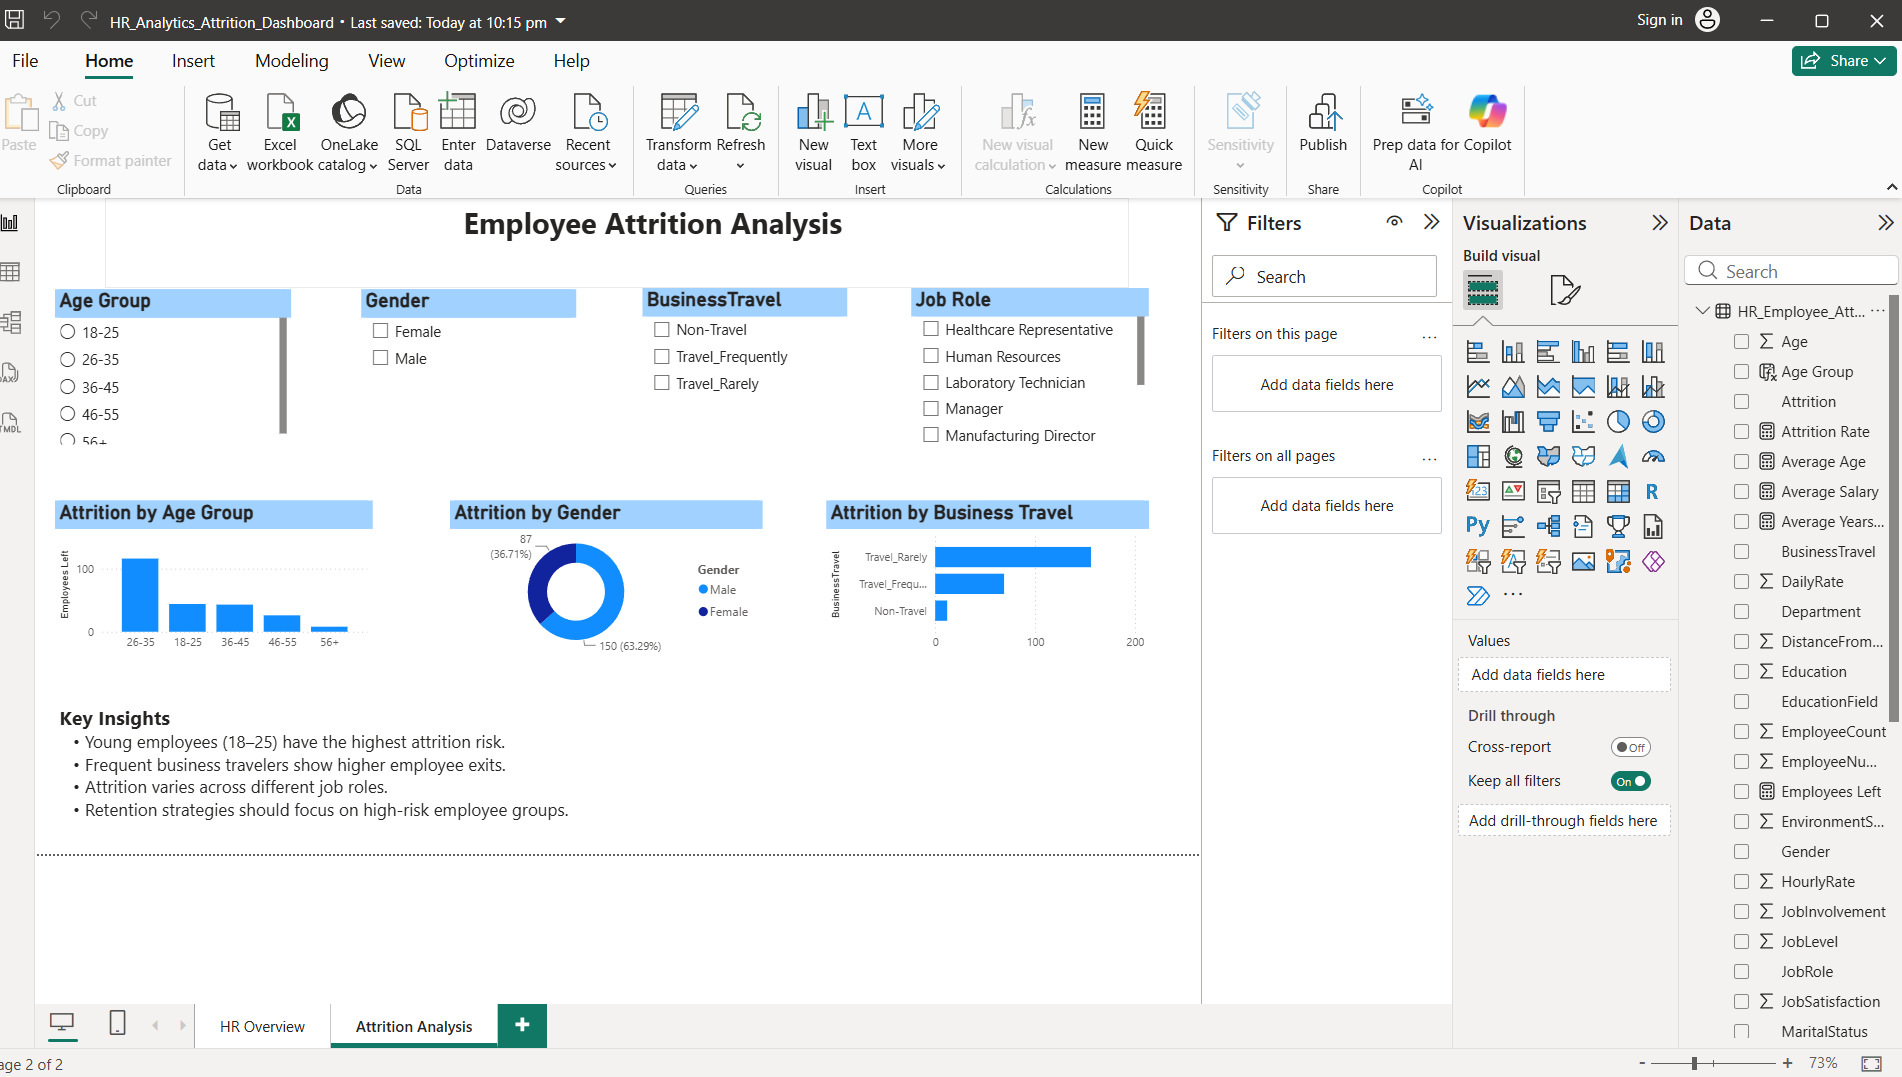

Layout of this report page (visuals, bound fields, positions):
{"tool":"powerbi","page":{"name":"Attrition Analysis","canvas":[1280,720],"ordinal":1},"visuals":[{"type":"donutChart","title":"Attrition by Gender","fields":{"Category":["HR_Employee_Attrition.Gender"],"Y":["HR_Employee_Attrition.Employees Left"]},"box":[455.6,332.1,343.1,174.3],"z":0},{"type":"clusteredColumnChart","title":"Attrition by Age Group","fields":{"Category":["HR_Employee_Attrition.Age Group"],"Y":["HR_Employee_Attrition.Employees Left"]},"box":[22,332.1,348.5,174.3],"z":1000},{"type":"clusteredBarChart","title":"Attrition by Business Travel","fields":{"Category":["HR_Employee_Attrition.BusinessTravel"],"Y":["HR_Employee_Attrition.Employees Left"]},"box":[868.6,332.1,354,174.3],"z":2000},{"type":"textbox","box":[76.8,0,1123.8,98.8],"z":3001},{"type":"listSlicer","fields":{"Values":["HR_Employee_Attrition.Age Group"]},"box":[22,100.2,259.3,175.6],"z":3002},{"type":"slicer","title":"Gender","fields":{"Values":["HR_Employee_Attrition.Gender"]},"box":[358.1,100.2,236,175.6],"z":3003},{"type":"slicer","title":"BusinessTravel","fields":{"Values":["HR_Employee_Attrition.BusinessTravel"]},"box":[666.9,98.8,225,175.6],"z":3004},{"type":"slicer","title":"Job Role","fields":{"Values":["HR_Employee_Attrition.JobRole"]},"box":[961.9,98.8,260.7,177],"z":3005},{"type":"textbox","box":[22,550.3,978.4,159.2],"z":3006}]}

Visuals, with their boxes on the page's 1280x720 design canvas (x1, y1, x2, y2). These are canvas units, not pixel positions in the 1902x1077 screenshot, which may show the page scaled, cropped or inside an application window:
"Attrition by Gender" donutChart: region(456, 332, 799, 506)
"Attrition by Age Group" clusteredColumnChart: region(22, 332, 370, 506)
"Attrition by Business Travel" clusteredBarChart: region(869, 332, 1223, 506)
textbox: region(77, 0, 1201, 99)
listSlicer - HR_Employee_Attrition.Age Group: region(22, 100, 281, 276)
"Gender" slicer: region(358, 100, 594, 276)
"BusinessTravel" slicer: region(667, 99, 892, 274)
"Job Role" slicer: region(962, 99, 1223, 276)
textbox: region(22, 550, 1000, 710)
